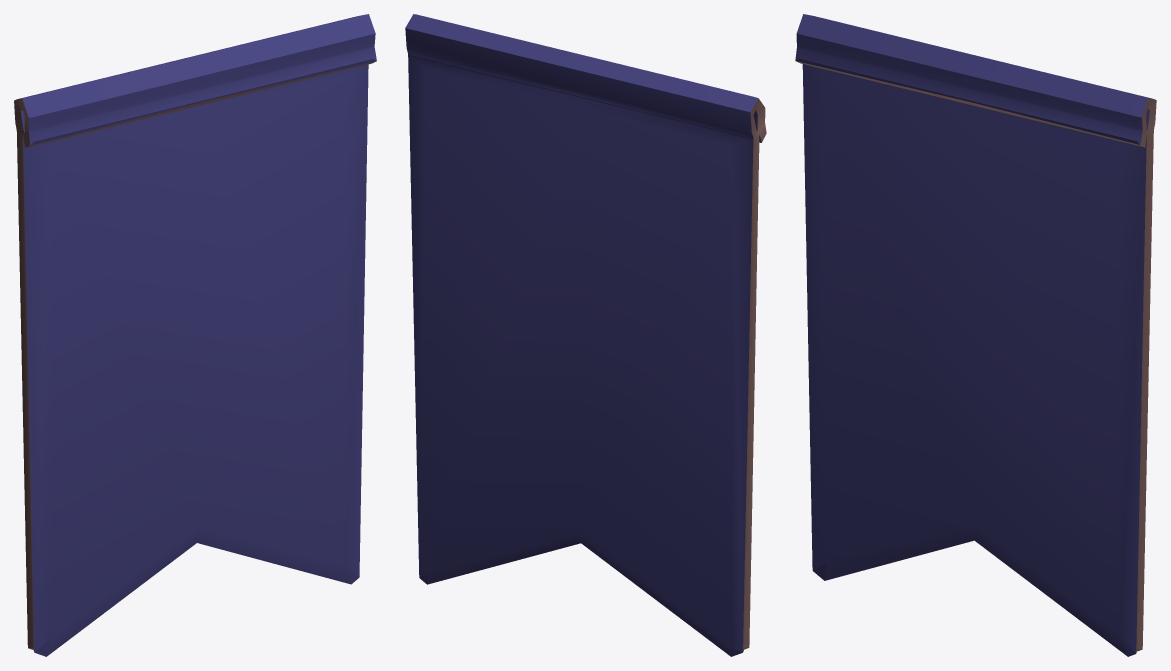
File: bandera (1).fbx
3 renders of one model, left to right at view 1: azimuth 30°, elevation 25°; view 2: azimuth 150°, elevation 25°; view 3: azimuth 330°, elevation 25°, orthographic.
Parts seen in each view (by area): view 1: Box001; view 2: Box001; view 3: Box001.
Part boxes in pixels (bbox=[...]): Box001: bbox=[14, 14, 376, 656]; Box001: bbox=[405, 14, 766, 656]; Box001: bbox=[795, 14, 1156, 656].
Bounding box in the file's own units: 10.7 × 16.66 × 0.8904.
